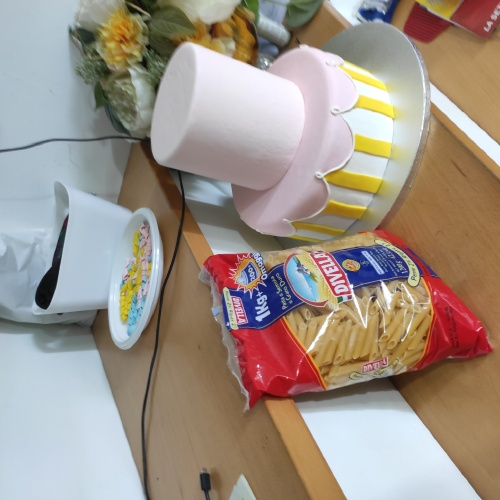pasta: (216, 249, 460, 377)
